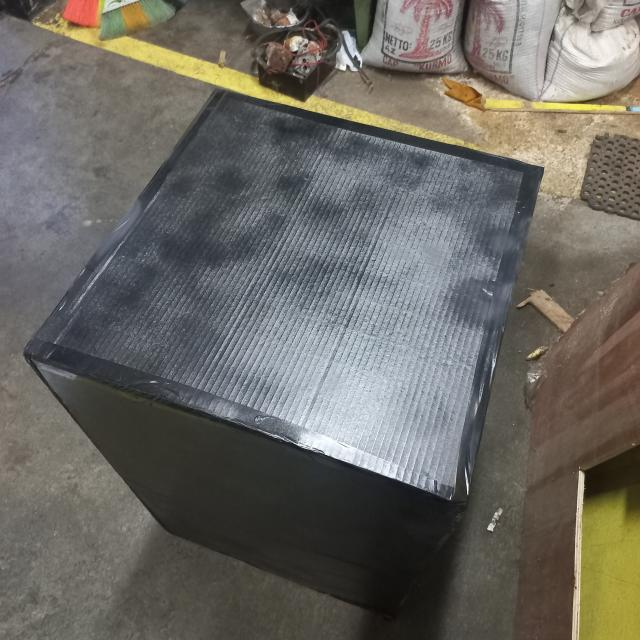obstacle: (28, 90, 543, 616)
